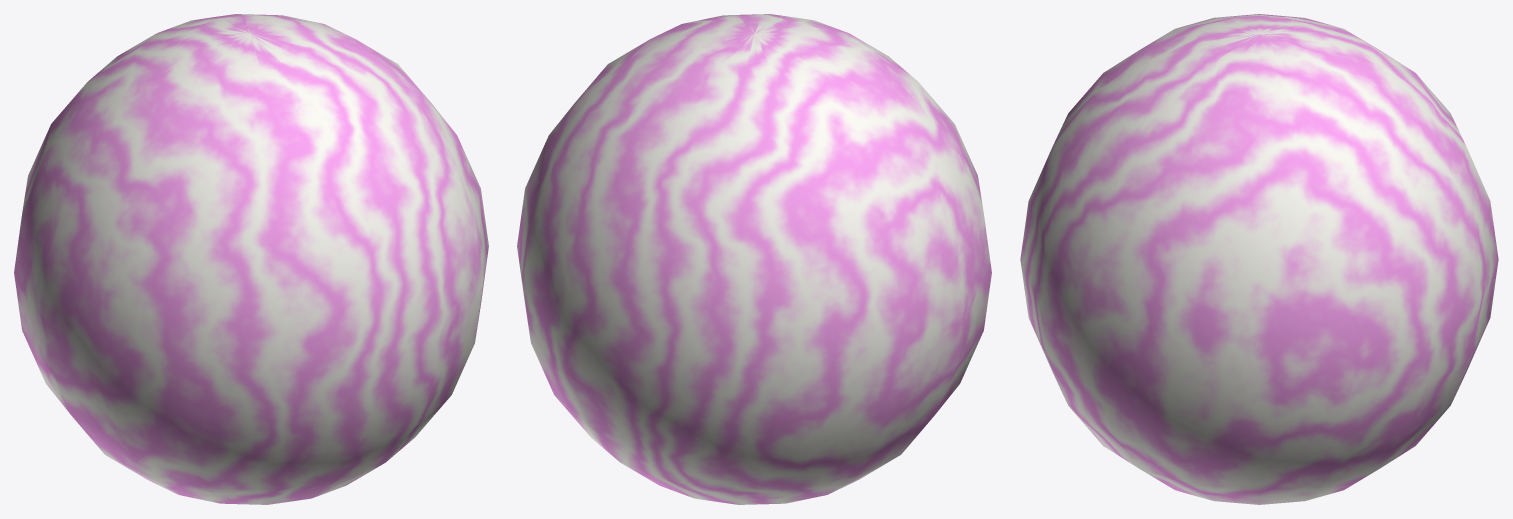
File: egg_yume.glb
The picture shows the model from 3 angles, left to right: view 1: azimuth 30°, elevation 25°; view 2: azimuth 150°, elevation 25°; view 3: azimuth 270°, elevation 25°; orthographic projection.
Visible parts, largest first — view 1: Egg_Yume_body_0; view 2: Egg_Yume_body_0; view 3: Egg_Yume_body_0.
Boxes of the visible parts, left/top/right/bottom form: Egg_Yume_body_0: left=14, top=14, right=488, bottom=504; Egg_Yume_body_0: left=517, top=14, right=991, bottom=504; Egg_Yume_body_0: left=1020, top=14, right=1498, bottom=504.
Size of the model in its own units: 1.98 by 2.06 by 1.98.
Materials: 1 (1 with a texture image).
